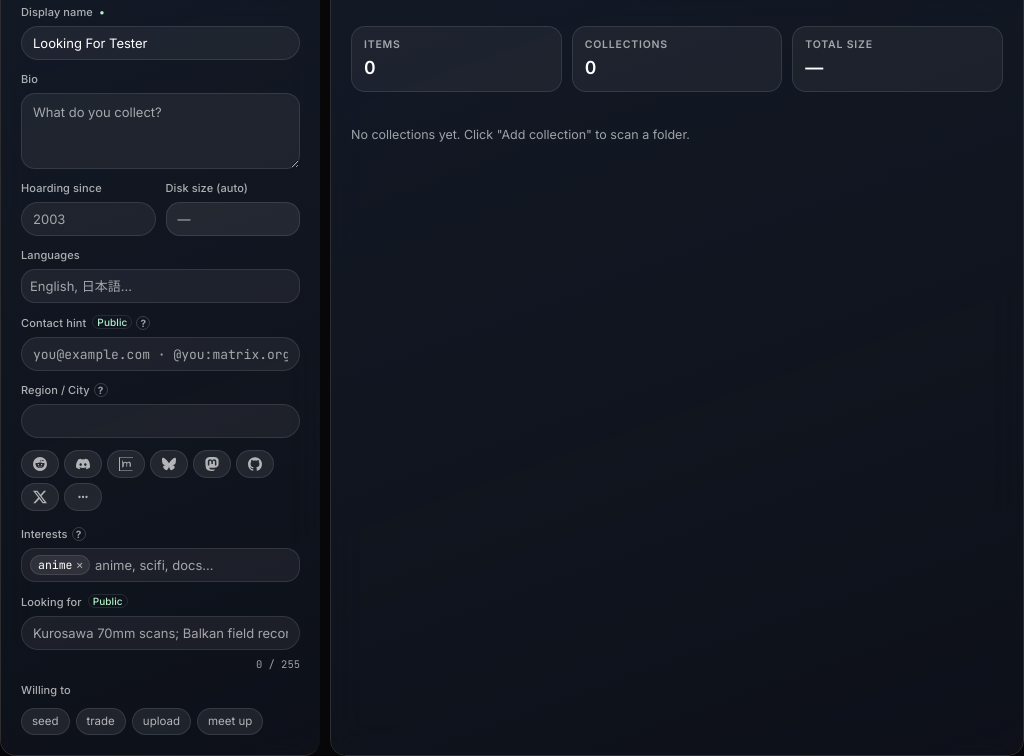
Test: QURATOR-351 e — Looking for field › counter_tracks_typed_length_against_the_255_cap
(page scrolled)
expect the text "0 / 255" is shown: met, box [256,657,300,671]
Step 1. Type "Kurosawa scans" into the field with placeholder "Kurosawa 70mm scans; Balkan field recordings pre-1970" → (160, 633), box [21,616,300,650]
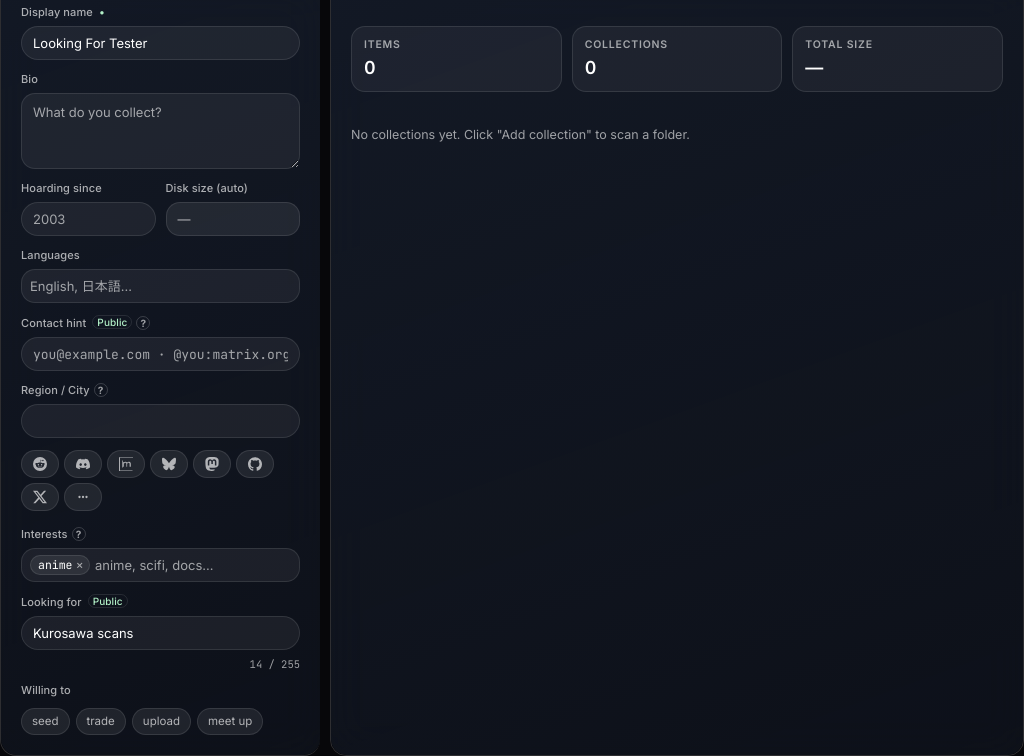
expect the text "14 / 255" is shown: met, box [250,657,300,671]
